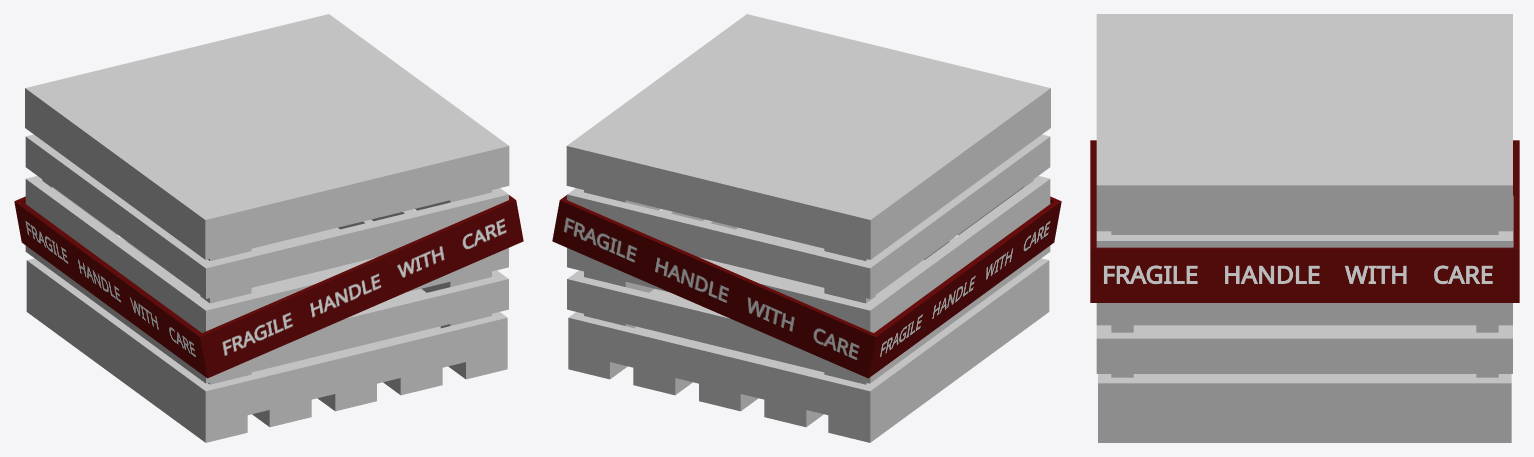
Rendered from Fragilebox.fbx.
3 views of the same model, side by side, from view 1: azimuth 30°, elevation 25°; view 2: azimuth 150°, elevation 25°; view 3: azimuth 270°, elevation 25° (orthographic). The views are drawn at different scales.
Parts seen in each view (by area): view 1: Box052, Box061, Box065, Box051, Box054, Box056, Box053, Box055, Box057, Box058; view 2: Box052, Box061, Box065, Box051, Box056, Box054, Box053, Box055, Box059, Box060; view 3: Box061, Box052, Box065, Box053.
Part boxes in pixels (x1,y1,x2,y2): Box052: (25,95,509,425); Box061: (25,14,509,226); Box065: (14,195,523,378); Box051: (26,295,247,442); Box054: (383,368,442,395); Box056: (252,399,311,427); Box053: (448,352,507,379); Box055: (318,384,376,411); Box057: (440,190,491,328); Box058: (200,248,251,384); Box052: (566,95,1050,425); Box061: (566,14,1050,226); Box065: (552,195,1061,378); Box051: (828,295,1049,442); Box056: (764,399,823,427); Box054: (633,368,692,395); Box053: (568,352,627,379); Box055: (699,384,757,411); Box059: (584,190,635,328); Box060: (824,248,875,384); Box061: (1096,14,1512,193); Box052: (1096,193,1512,422); Box065: (1090,140,1519,302); Box053: (1098,422,1511,442).
Bounding box in the file's own units: 3.88 × 3.85 × 2.56.
Materials: 1 (1 with a texture image).
